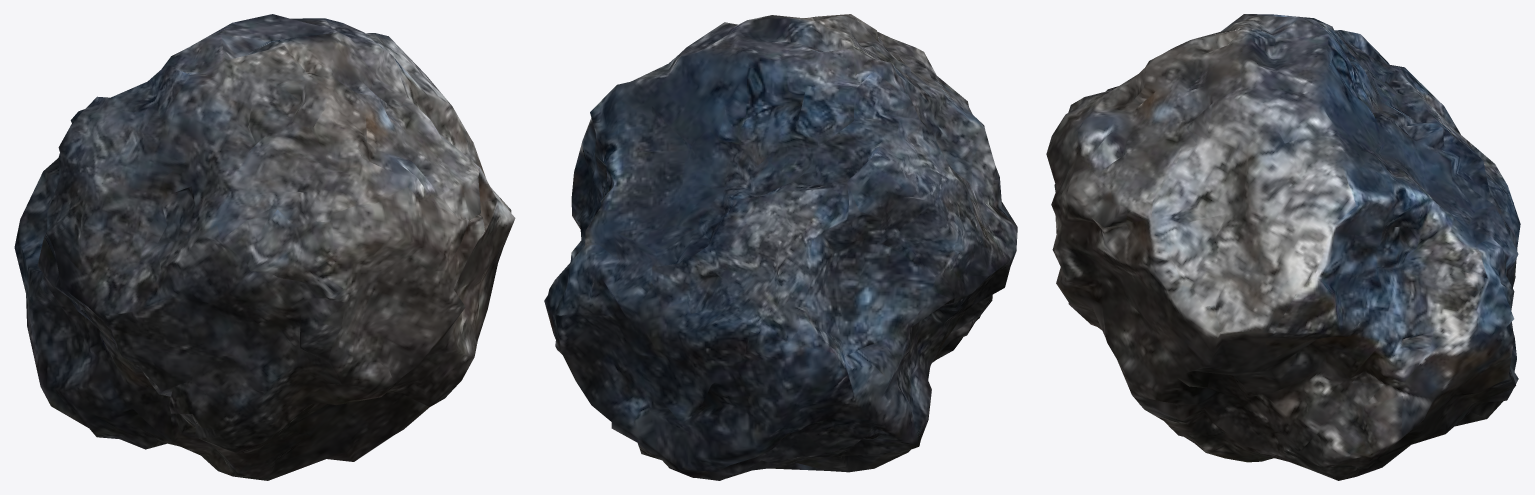
The model's file is qi_ore.glb.
3 renders of one model, left to right at view 1: azimuth 30°, elevation 25°; view 2: azimuth 150°, elevation 25°; view 3: azimuth 270°, elevation 25°, orthographic. The views are drawn at different scales.
Parts seen in each view (by area): view 1: tripo_node_0098761b-e3b6-4599-91ea-916120f84730; view 2: tripo_node_0098761b-e3b6-4599-91ea-916120f84730; view 3: tripo_node_0098761b-e3b6-4599-91ea-916120f84730.
Boxes of the visible parts, x1,y1,x2,y2 form: tripo_node_0098761b-e3b6-4599-91ea-916120f84730: (14, 14, 515, 480); tripo_node_0098761b-e3b6-4599-91ea-916120f84730: (544, 14, 1017, 480); tripo_node_0098761b-e3b6-4599-91ea-916120f84730: (1046, 14, 1520, 480).
Bounding box in the file's own units: 0.9842 × 0.9442 × 1.
Materials: 1 (1 with a texture image).
